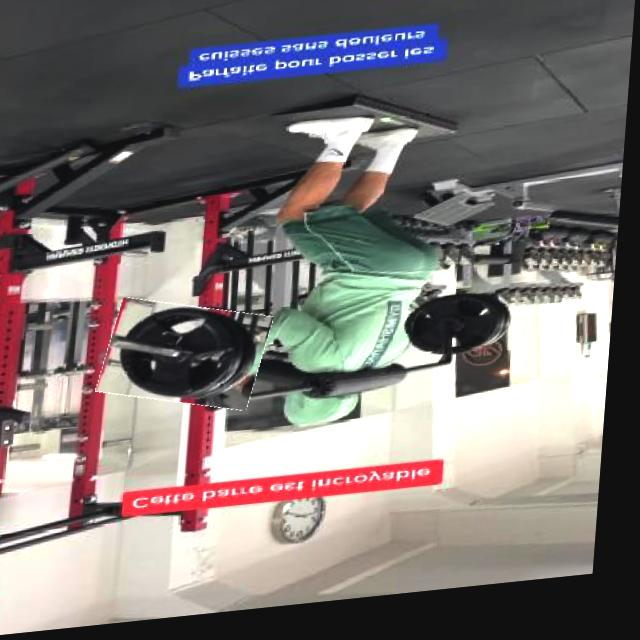barbell: (106, 297, 278, 421)
